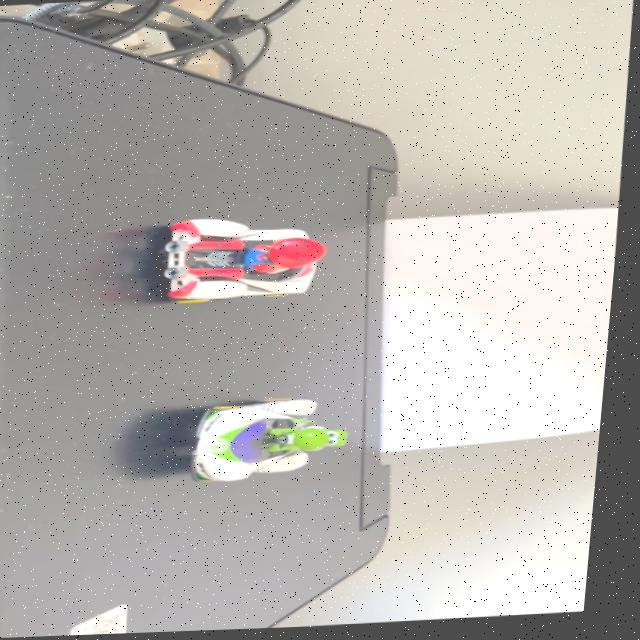mario: (149, 212, 335, 312)
yoshi: (185, 389, 369, 493)
